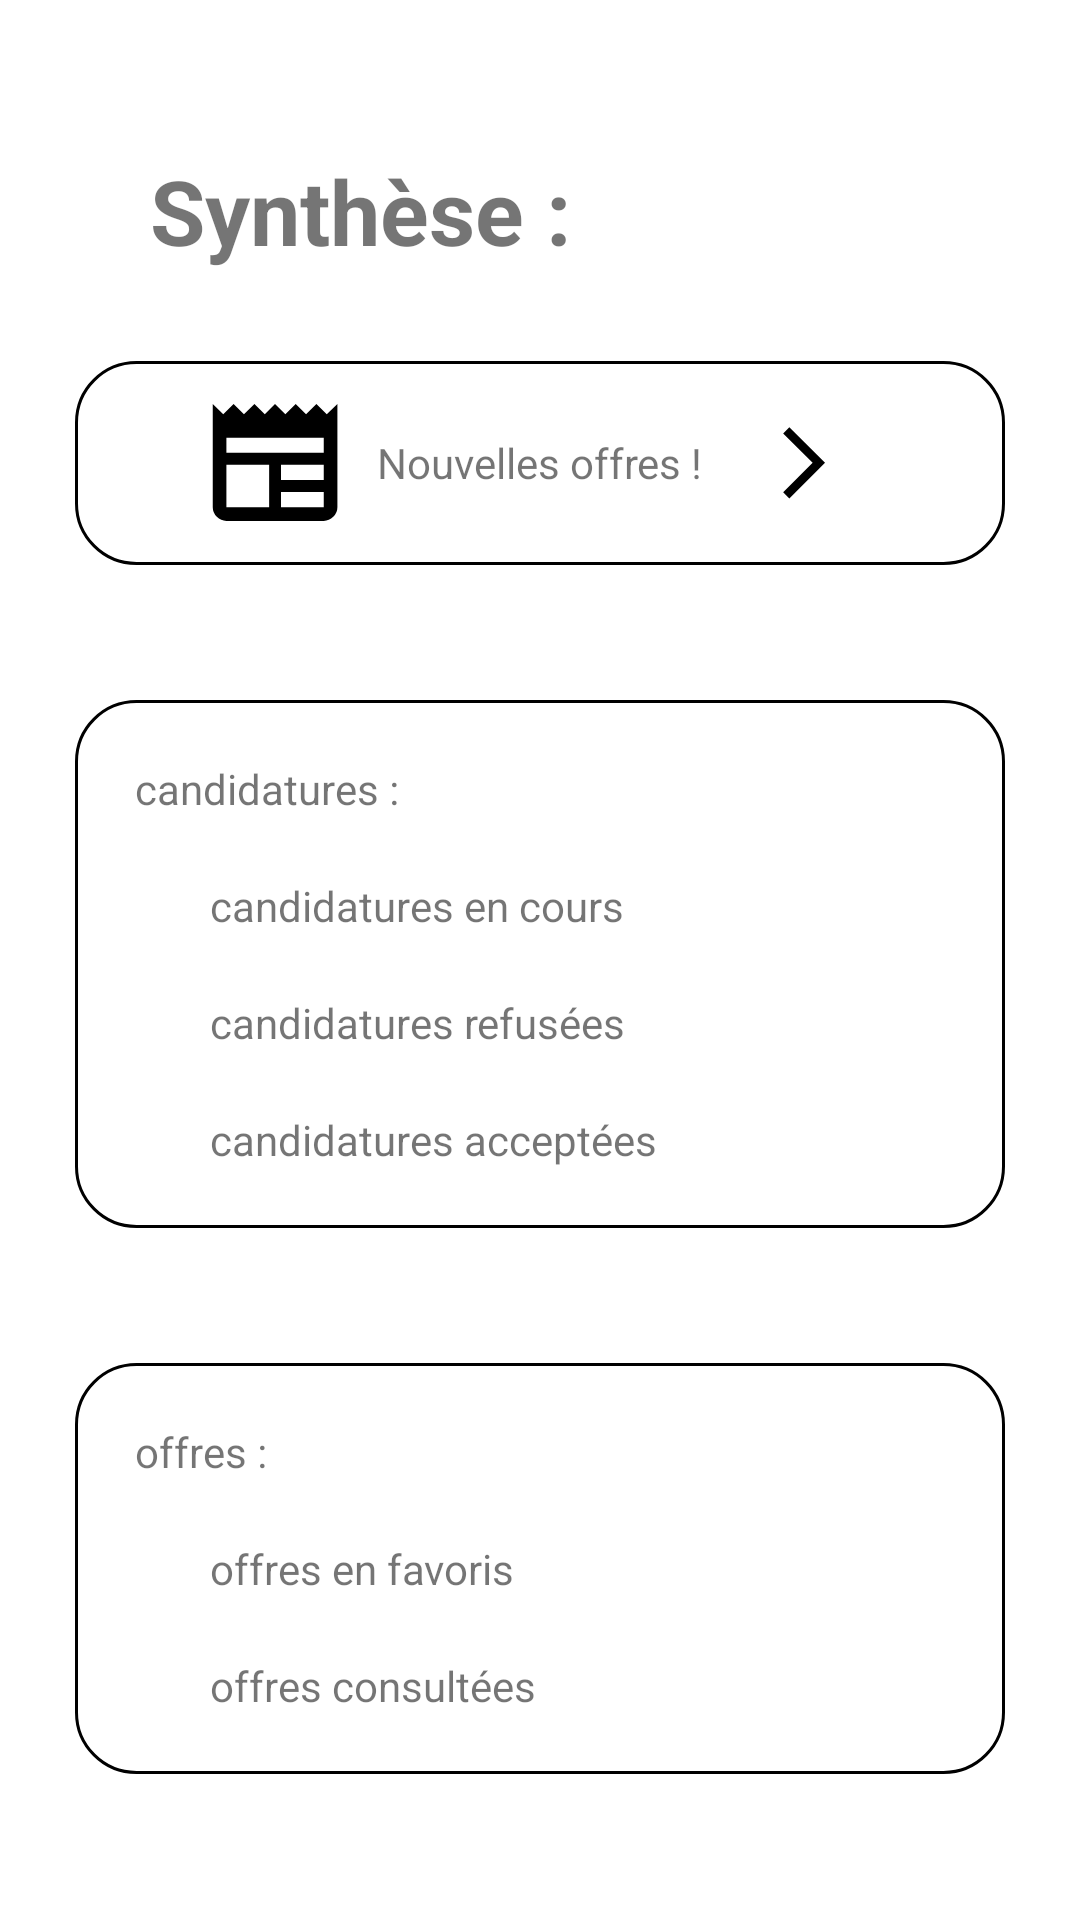

Screen size 1080x1920. Icon name, then its center in pixels as (x=x, y=y):
newspaper: (x=275, y=462)
right chevron: (x=804, y=463)
